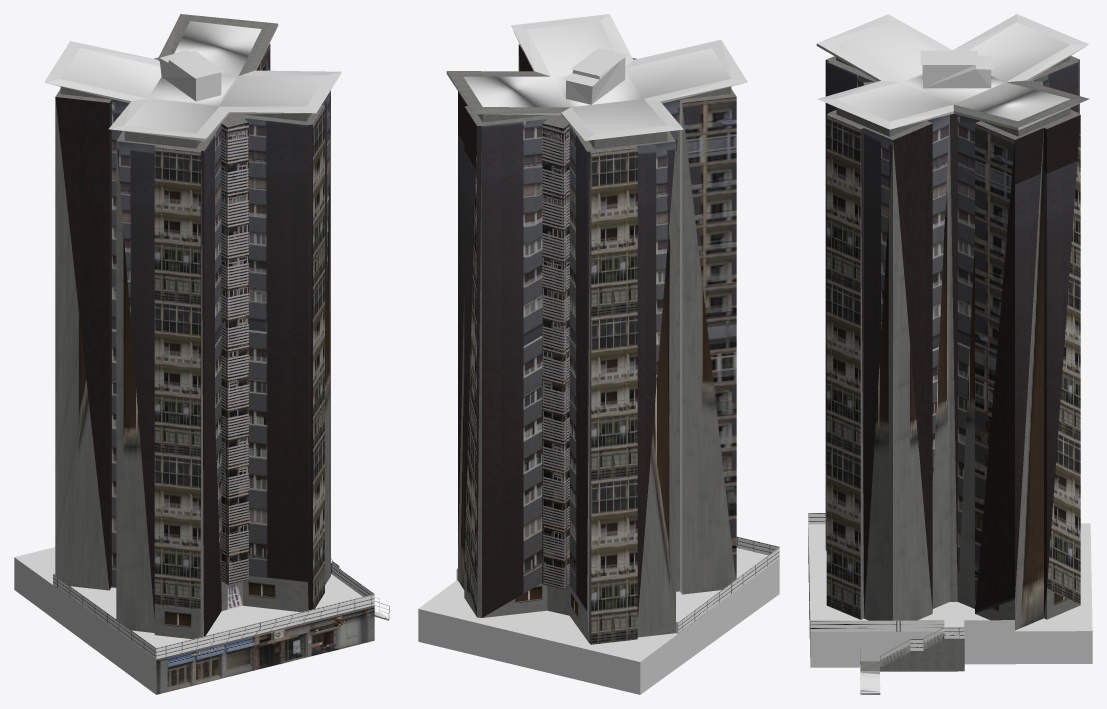
File: building2_1.glb
3 renders of one model, left to right at view 1: azimuth 30°, elevation 25°; view 2: azimuth 150°, elevation 25°; view 3: azimuth 270°, elevation 25°, orthographic.
Parts seen in each view (by area): view 1: Sketchup; view 2: Sketchup; view 3: Sketchup.
Part boxes in pixels (x1,y1,x2,y2): Sketchup: (14,14,389,694); Sketchup: (418,14,779,694); Sketchup: (808,14,1092,694).
Size of the model in its own units: 27.6 by 55.18 by 25.2.
Materials: 19 (15 with a texture image).
